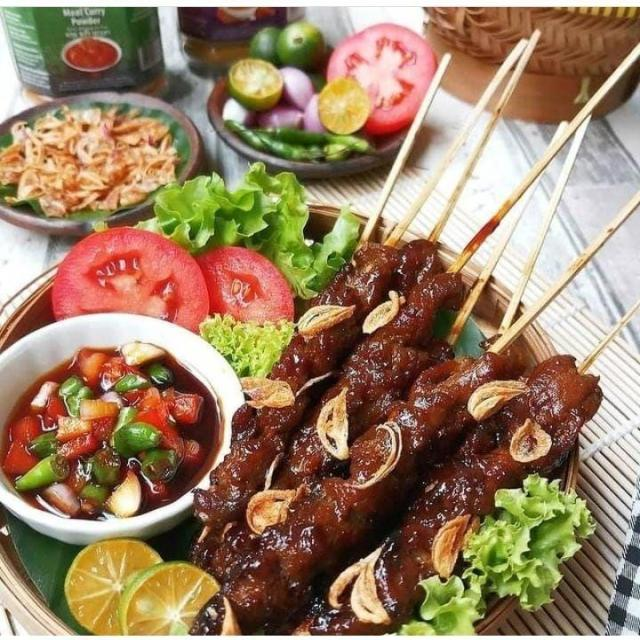Sate: (268, 62, 628, 612)
